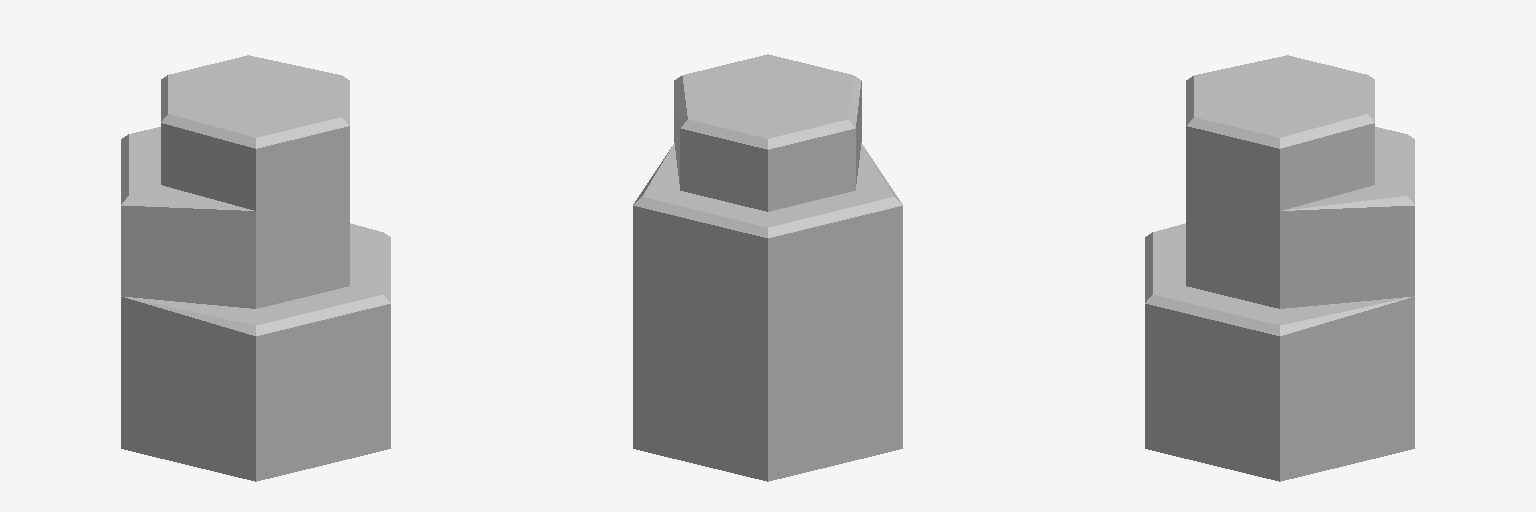
File: Rock_1_F_Color1.obj
3 renders of one model, left to right at view 1: azimuth 30°, elevation 25°; view 2: azimuth 150°, elevation 25°; view 3: azimuth 270°, elevation 25°, orthographic.
Parts seen in each view (by area): view 1: Rock_1_F_Color1; view 2: Rock_1_F_Color1; view 3: Rock_1_F_Color1.
Boxes of the visible parts, x1,y1,x2,y2 form: Rock_1_F_Color1: [121, 55, 390, 481]; Rock_1_F_Color1: [633, 54, 902, 481]; Rock_1_F_Color1: [1145, 55, 1414, 481].
Size of the model in its own units: 1 by 1.13 by 0.866.